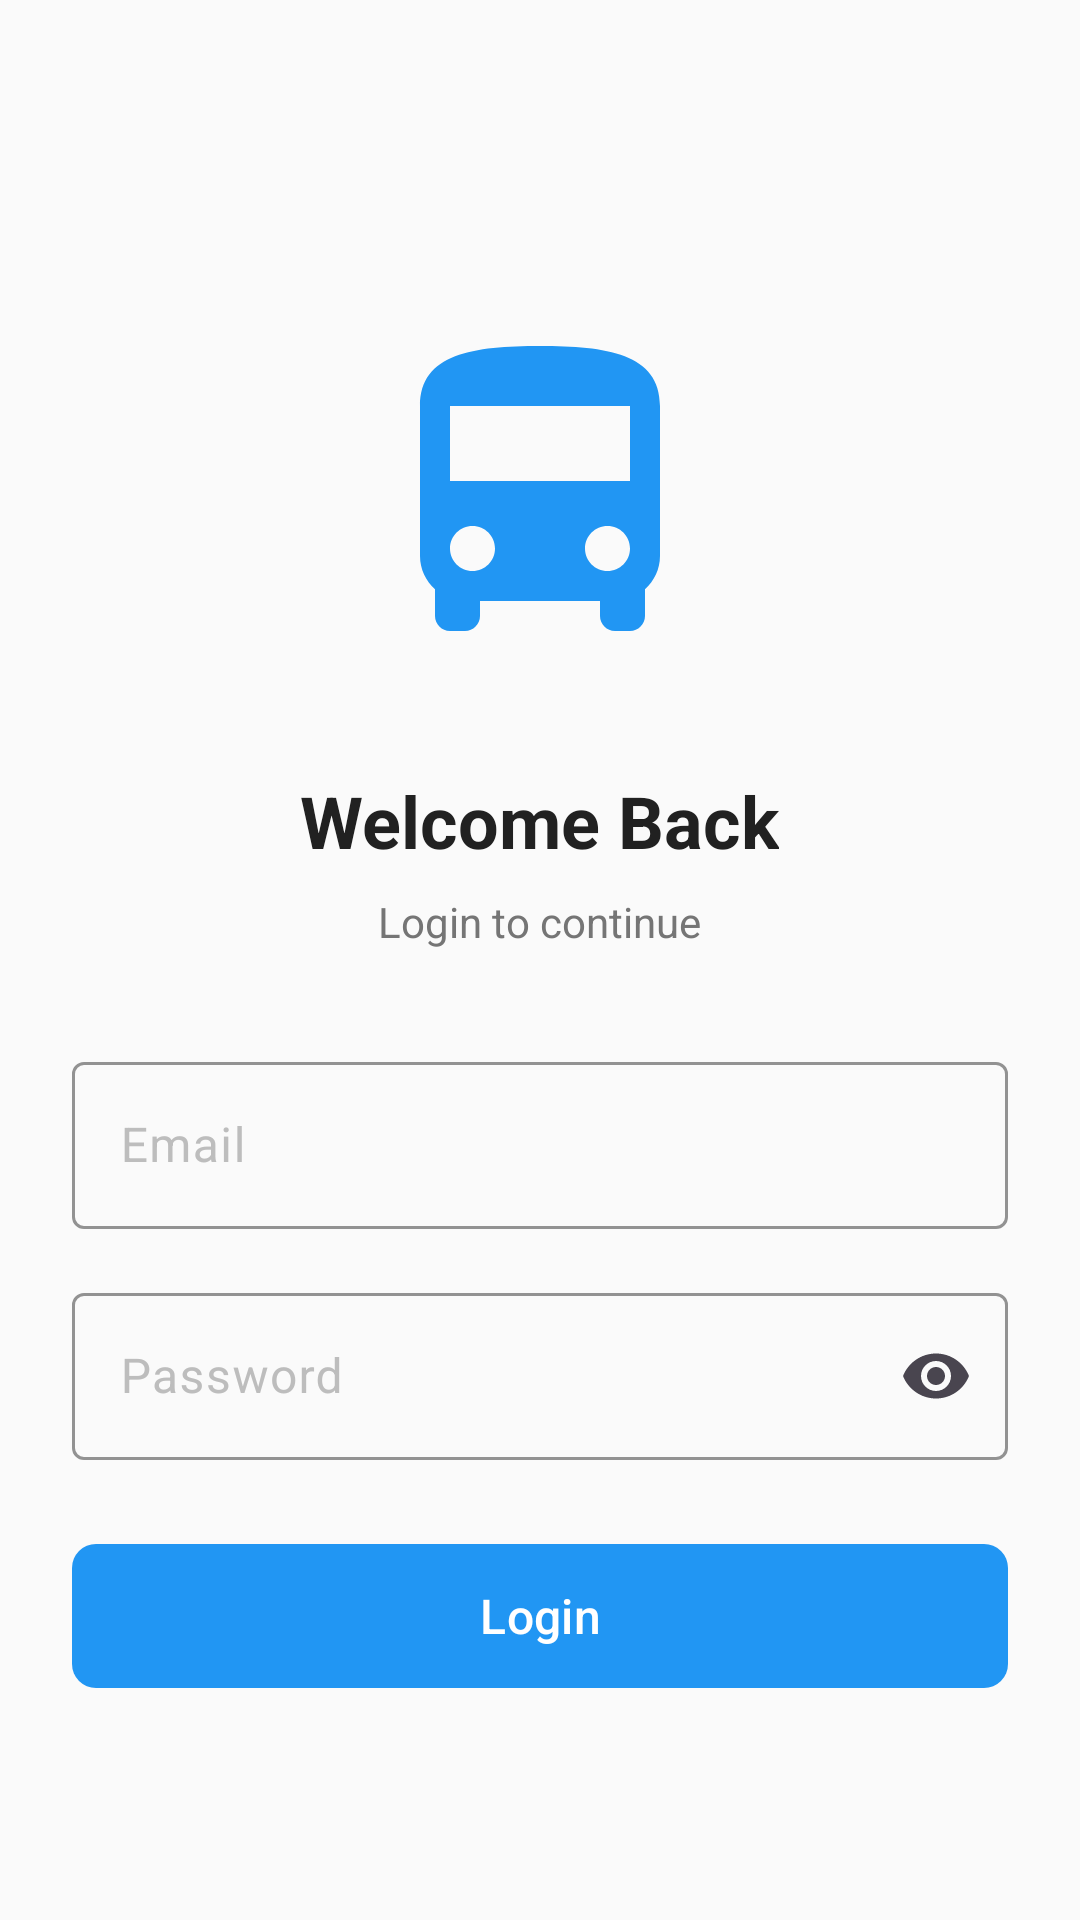

Icon bounding boxes for this 1080*1920 phone screenshot, format (x1, y1, x2, y2):
bus: (420, 346, 660, 631)
